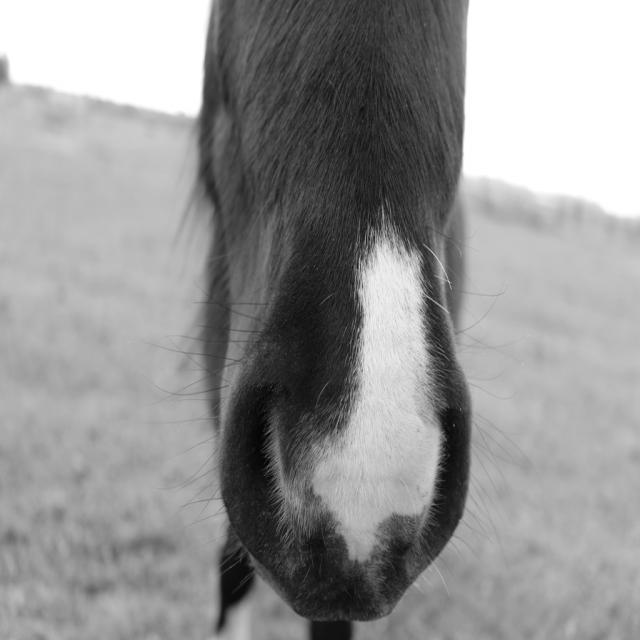Horse: (138, 0, 541, 639)
